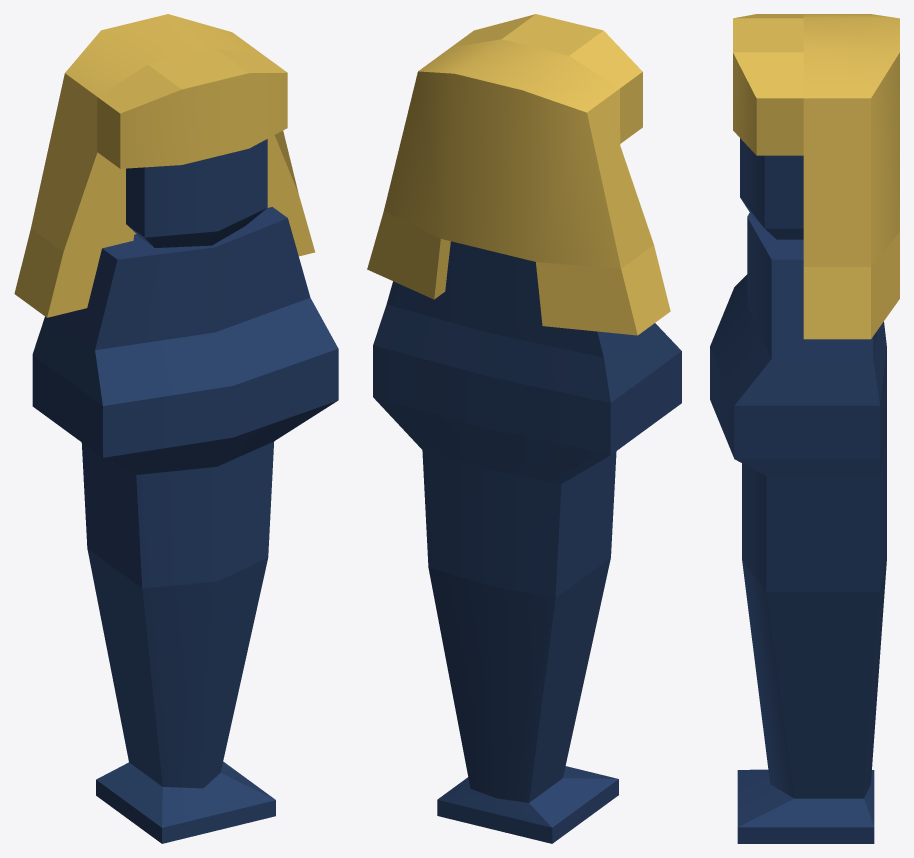
The model's file is egy_statuette.fbx.
3 renders of one model, left to right at view 1: azimuth 30°, elevation 25°; view 2: azimuth 150°, elevation 25°; view 3: azimuth 270°, elevation 25°, orthographic. The views are drawn at different scales.
Visible parts, largest first — view 1: pCube59, pCube60; view 2: pCube59, pCube60; view 3: pCube59, pCube60.
Part boxes in pixels (left/top/right/bottom): pCube59: left=32, top=139, right=338, bottom=843; pCube60: left=14, top=14, right=315, bottom=317; pCube59: left=373, top=241, right=681, bottom=843; pCube60: left=367, top=14, right=670, bottom=335; pCube59: left=710, top=138, right=886, bottom=843; pCube60: left=733, top=14, right=899, bottom=339.
Bounding box in the file's own units: 0.3354 × 0.8982 × 0.1989.
